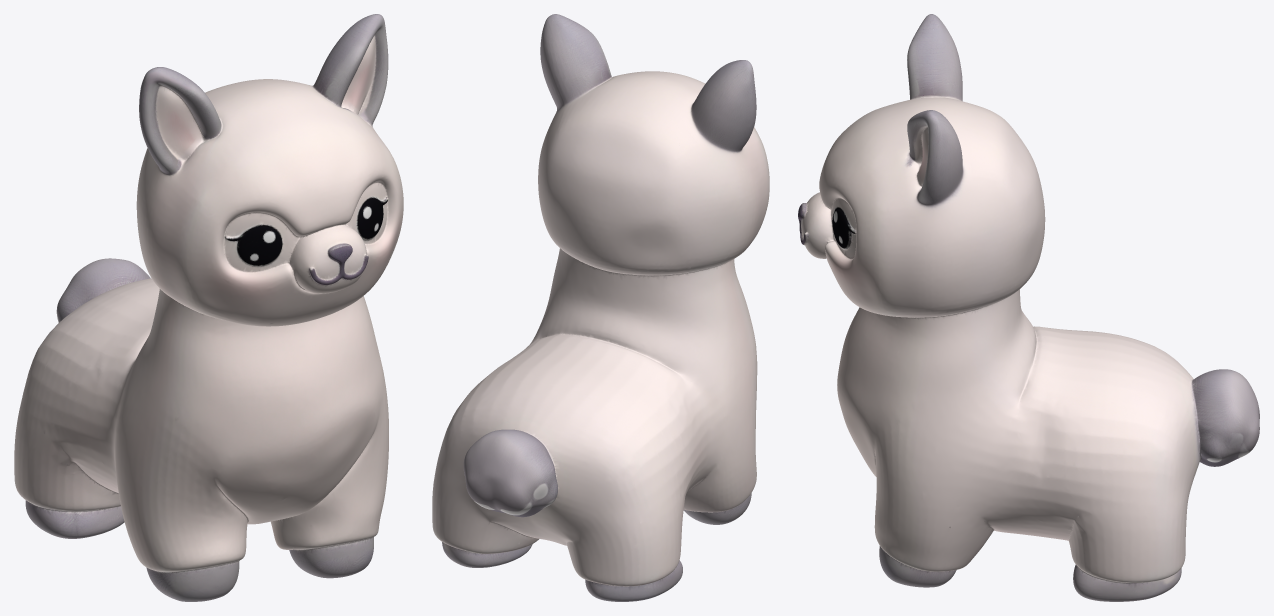
The model's file is Piet.glb.
The picture shows the model from 3 angles, left to right: view 1: azimuth 30°, elevation 25°; view 2: azimuth 150°, elevation 25°; view 3: azimuth 270°, elevation 25°; orthographic projection. The views are drawn at different scales.
Parts seen in each view (by area): view 1: Mesh_0.001; view 2: Mesh_0.001; view 3: Mesh_0.001.
Part boxes in pixels (x1,y1,x2,y2): Mesh_0.001: (14, 14, 403, 601); Mesh_0.001: (432, 14, 769, 601); Mesh_0.001: (798, 14, 1259, 601).
Size of the model in its own units: 0.0783 by 0.15 by 0.1287.
Materials: 1 (1 with a texture image).
